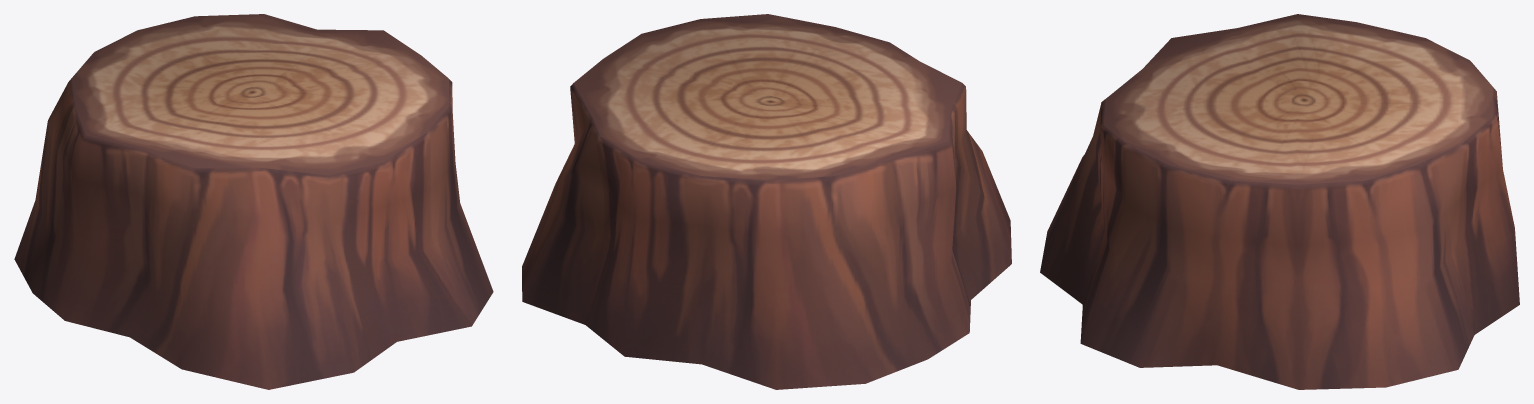
The model's file is Stump_03.fbx.
The picture shows the model from 3 angles, left to right: view 1: azimuth 30°, elevation 25°; view 2: azimuth 150°, elevation 25°; view 3: azimuth 270°, elevation 25°; orthographic projection. The views are drawn at different scales.
Visible parts, largest first — view 1: Object019; view 2: Object019; view 3: Object019.
Boxes of the visible parts, <box> form: Object019: <box>14,14,493,389</box>; Object019: <box>522,14,1011,389</box>; Object019: <box>1040,14,1519,389</box>.
Size of the model in its own units: 114 by 50.75 by 116.
